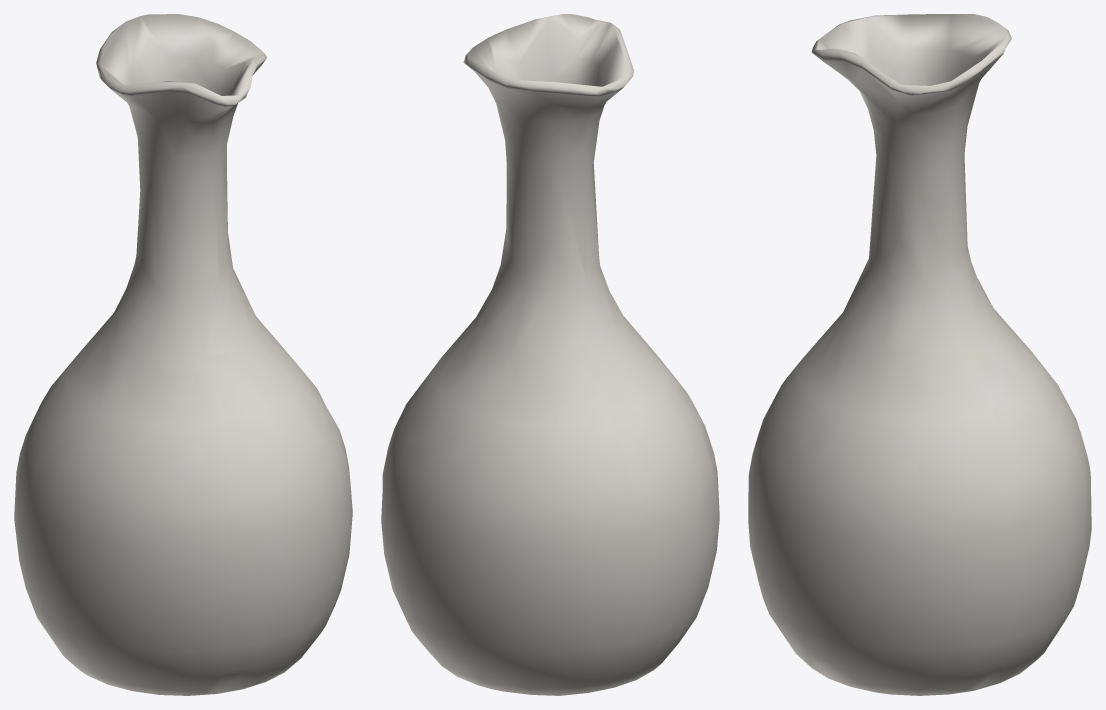
Rendered from ceramic_vase_01.glb.
The picture shows the model from 3 angles, left to right: view 1: azimuth 30°, elevation 25°; view 2: azimuth 150°, elevation 25°; view 3: azimuth 270°, elevation 25°; orthographic projection.
Parts seen in each view (by area): view 1: ceramic_vase_01; view 2: ceramic_vase_01; view 3: ceramic_vase_01.
Boxes of the visible parts, x1,y1,x2,y2 form: ceramic_vase_01: [14, 14, 352, 695]; ceramic_vase_01: [381, 14, 719, 695]; ceramic_vase_01: [748, 14, 1091, 695].
Bounding box in the file's own units: 0.2029 × 0.4003 × 0.2024.
Materials: 1 (1 with a texture image).
